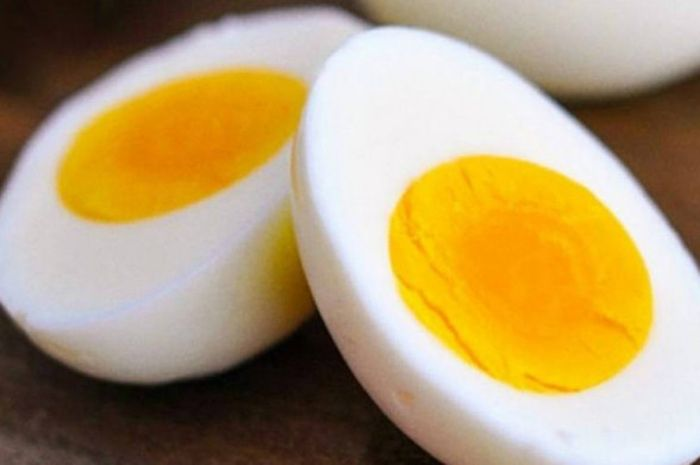Telur: (281, 90, 655, 457), (25, 40, 345, 316)
